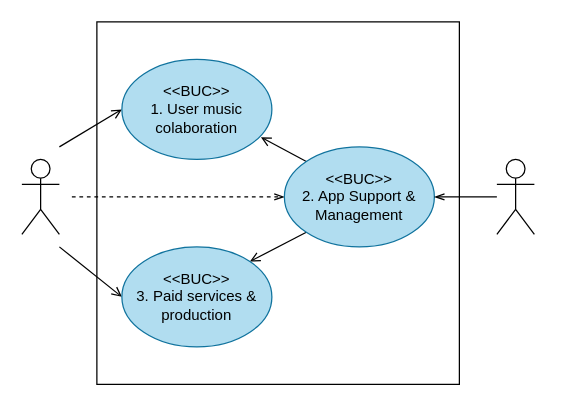
Some shapes in this 564 by 406 pixel diagram are drawn without their labels. The centre of each missing label's shape, as x and y in pixels:
"Support" goes at (515,196).
"User" goes at (40,196).
